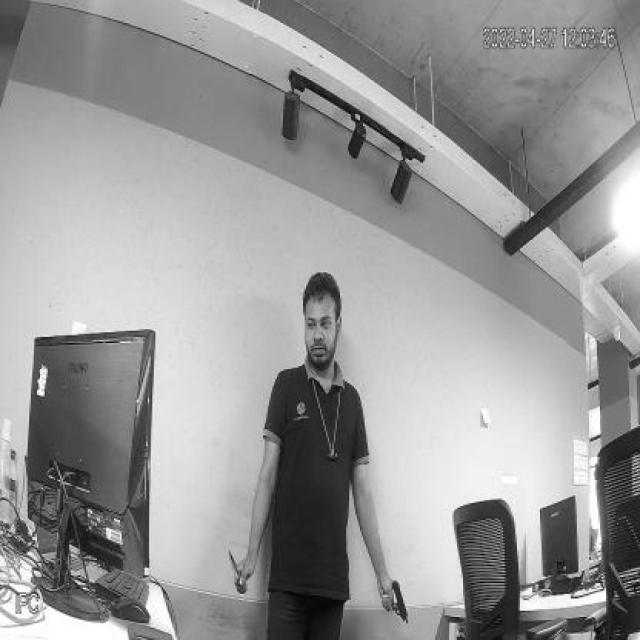weapon: (381, 578, 412, 622)
